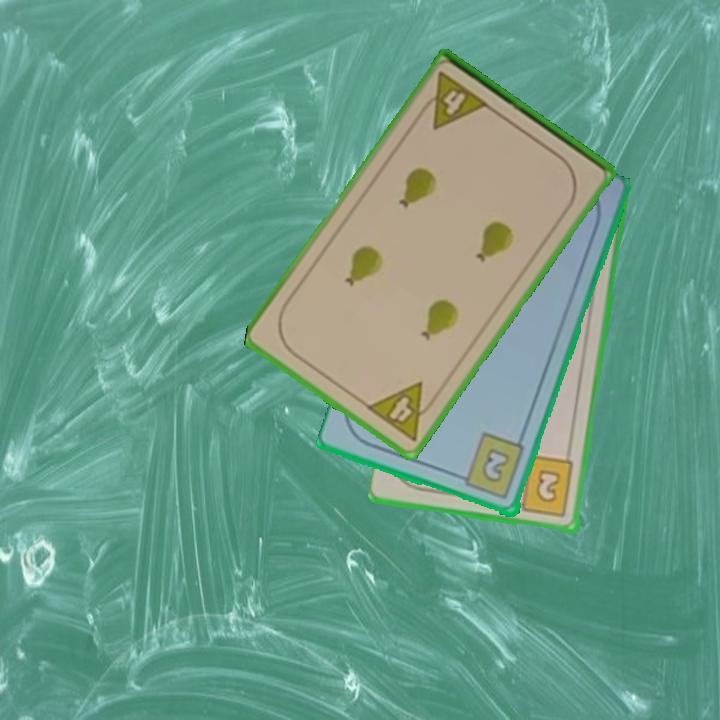2b: (453, 430, 528, 503), (509, 453, 577, 520)
4p: (362, 378, 442, 444), (414, 68, 492, 133)
